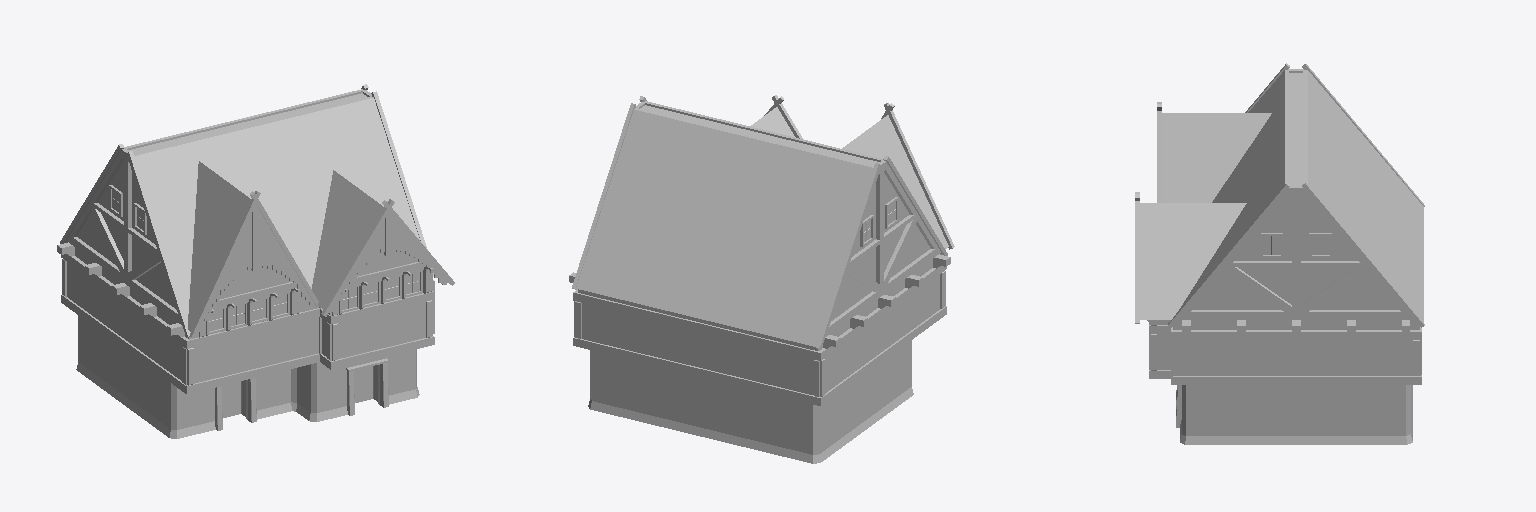
Rendered from House.obj.
3 views of the same model, side by side, from view 1: azimuth 30°, elevation 25°; view 2: azimuth 150°, elevation 25°; view 3: azimuth 270°, elevation 25° (orthographic).
Parts seen in each view (by area): view 1: RTMjollandTroutPurse01:3, RTMjollandTroutPurse01:1, RTMjollandTroutPurse01:17, RTMjollandTroutPurse01:15, RTMjollandTroutPurse01:2, WindowGlow, RTMjollandTroutPurse01:6; view 2: RTMjollandTroutPurse01:3, RTMjollandTroutPurse01:15, RTMjollandTroutPurse01:1, RTMjollandTroutPurse01:17, RTMjollandTroutPurse01:2, L01_Shingles; view 3: RTMjollandTroutPurse01:3, RTMjollandTroutPurse01:17, RTMjollandTroutPurse01:1, RTMjollandTroutPurse01:15, RTMjollandTroutPurse01:2, WindowGlow.
Boxes of the visible parts, <box> form: RTMjollandTroutPurse01:3: <box>134,98,420,331</box>; RTMjollandTroutPurse01:1: <box>57,84,454,430</box>; RTMjollandTroutPurse01:17: <box>67,161,425,383</box>; RTMjollandTroutPurse01:15: <box>76,315,419,438</box>; RTMjollandTroutPurse01:2: <box>67,93,448,338</box>; WindowGlow: <box>112,190,419,331</box>; RTMjollandTroutPurse01:6: <box>222,366,372,417</box>; RTMjollandTroutPurse01:3: <box>578,107,948,340</box>; RTMjollandTroutPurse01:15: <box>588,340,913,463</box>; RTMjollandTroutPurse01:1: <box>569,95,954,405</box>; RTMjollandTroutPurse01:17: <box>582,173,939,394</box>; RTMjollandTroutPurse01:2: <box>578,105,940,350</box>; L01_Shingles: <box>576,282,817,346</box>; RTMjollandTroutPurse01:3: <box>1140,70,1419,319</box>; RTMjollandTroutPurse01:17: <box>1157,196,1419,375</box>; RTMjollandTroutPurse01:1: <box>1135,63,1424,427</box>; RTMjollandTroutPurse01:15: <box>1180,385,1412,444</box>; RTMjollandTroutPurse01:2: <box>1289,73,1302,185</box>; WindowGlow: <box>1263,236,1329,254</box>.
Size of the model in its own units: 11.2 by 10.59 by 10.5.